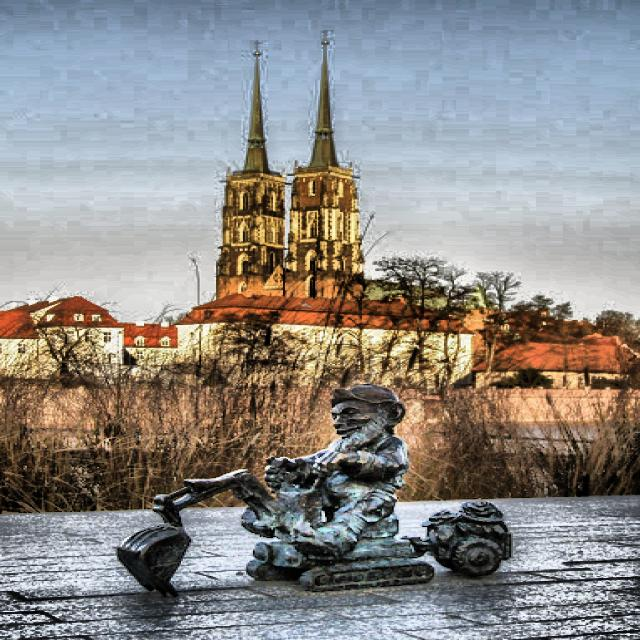Koparkus: (118, 385, 512, 596)
